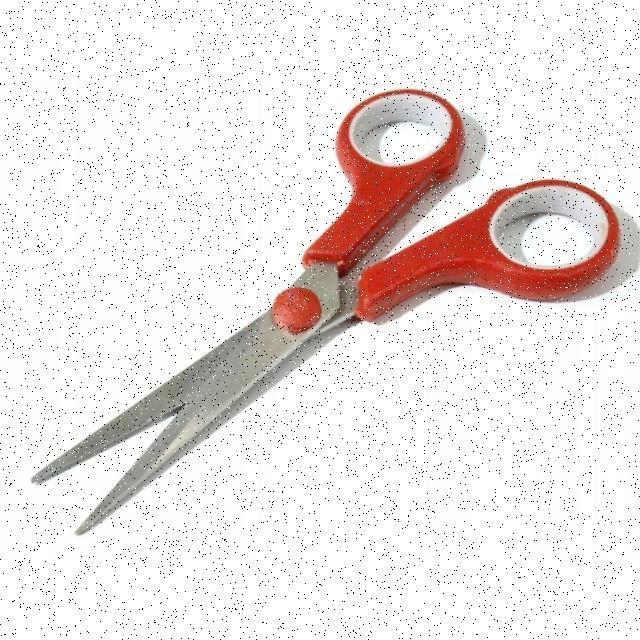scissors: (21, 84, 626, 540)
